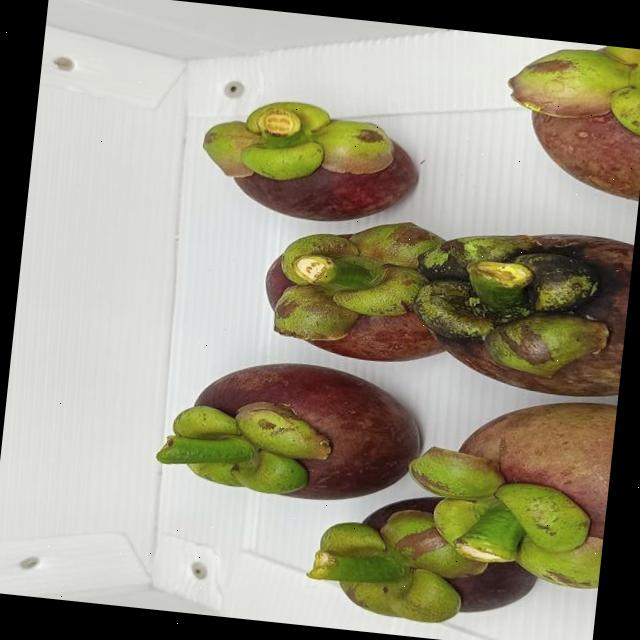mangosteen: (226, 168, 468, 414), (370, 374, 618, 614), (404, 204, 636, 426), (157, 324, 400, 524), (288, 476, 549, 640), (200, 70, 427, 226), (480, 32, 640, 209)
